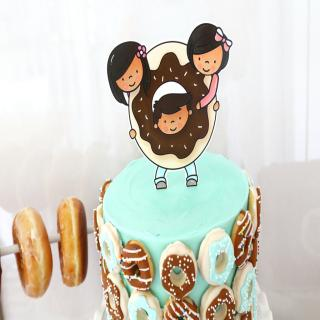Cake: (94, 156, 260, 320)
Doughnut: (94, 180, 260, 320), (128, 41, 216, 168), (11, 206, 54, 297), (57, 198, 89, 285)
